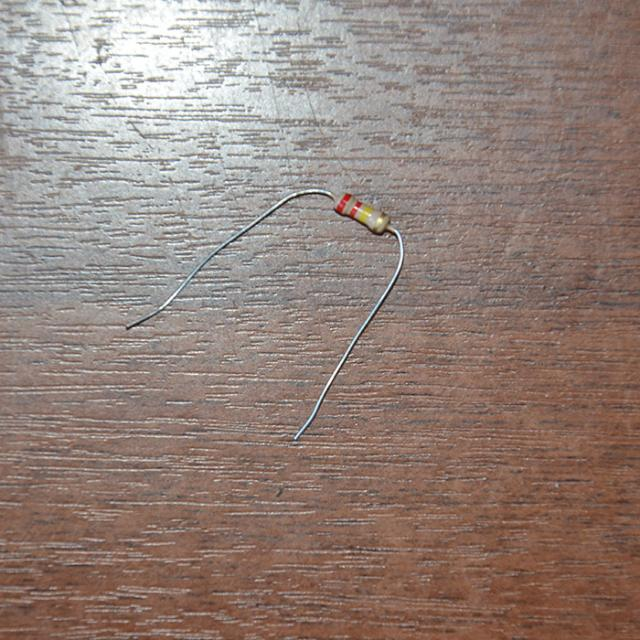gold: (371, 212, 385, 233)
red: (336, 193, 350, 211), (350, 201, 361, 216)
resistor: (325, 183, 402, 243)
yellow: (358, 206, 370, 222)
